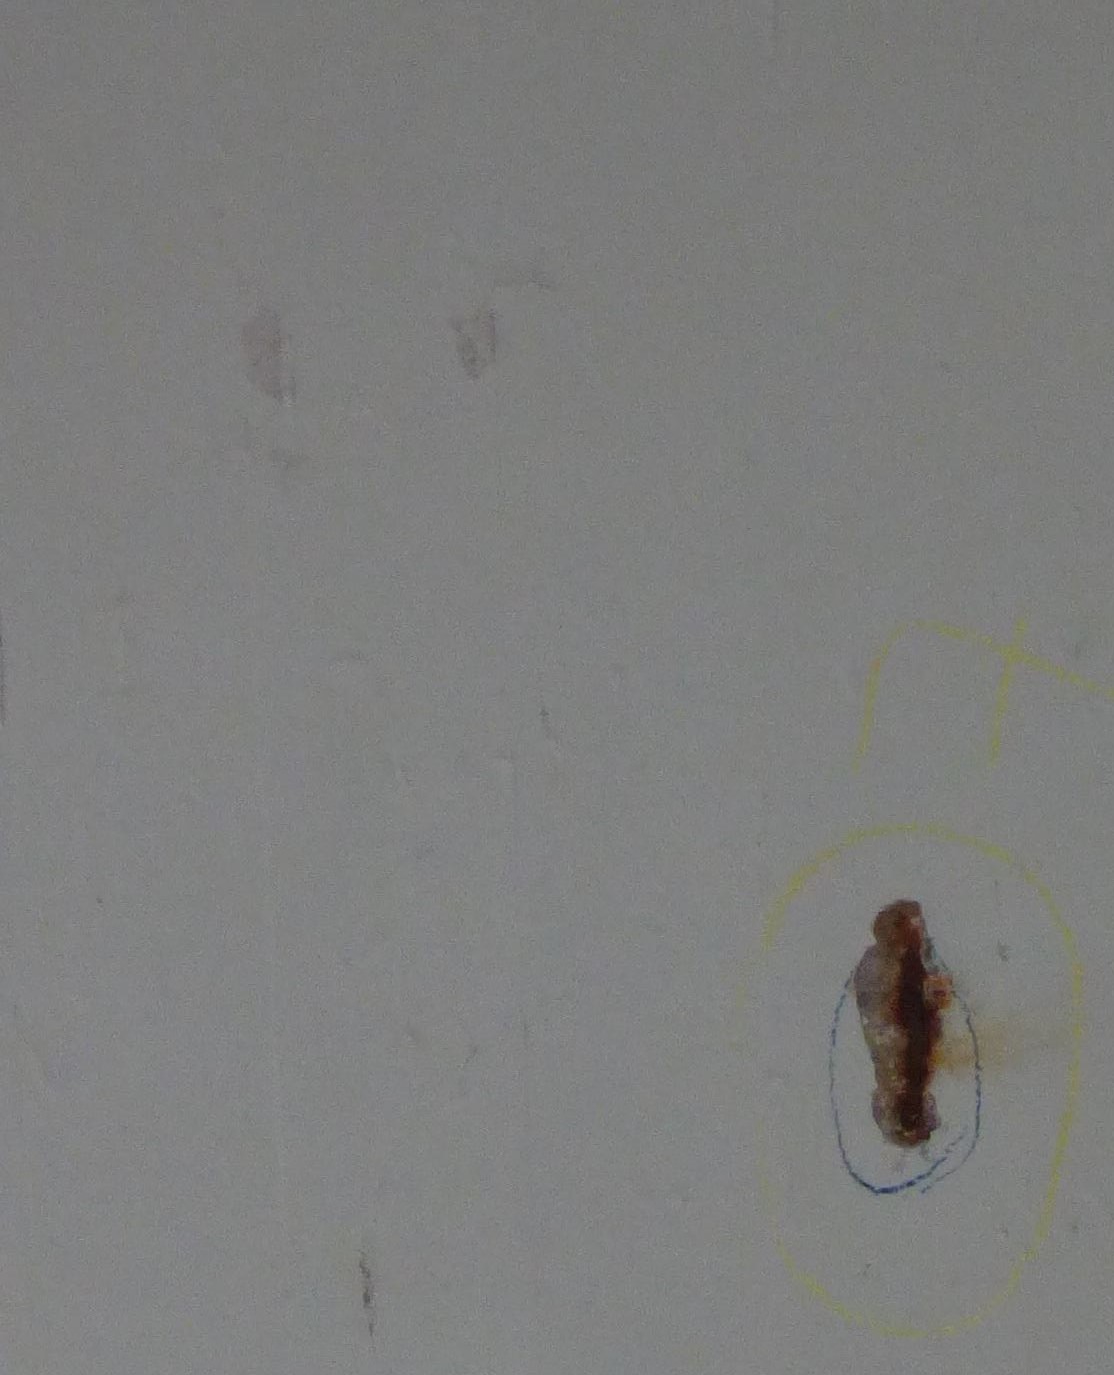Exposed reinforcement: (896, 945, 929, 1130)
Spalling: (854, 901, 943, 1147)
